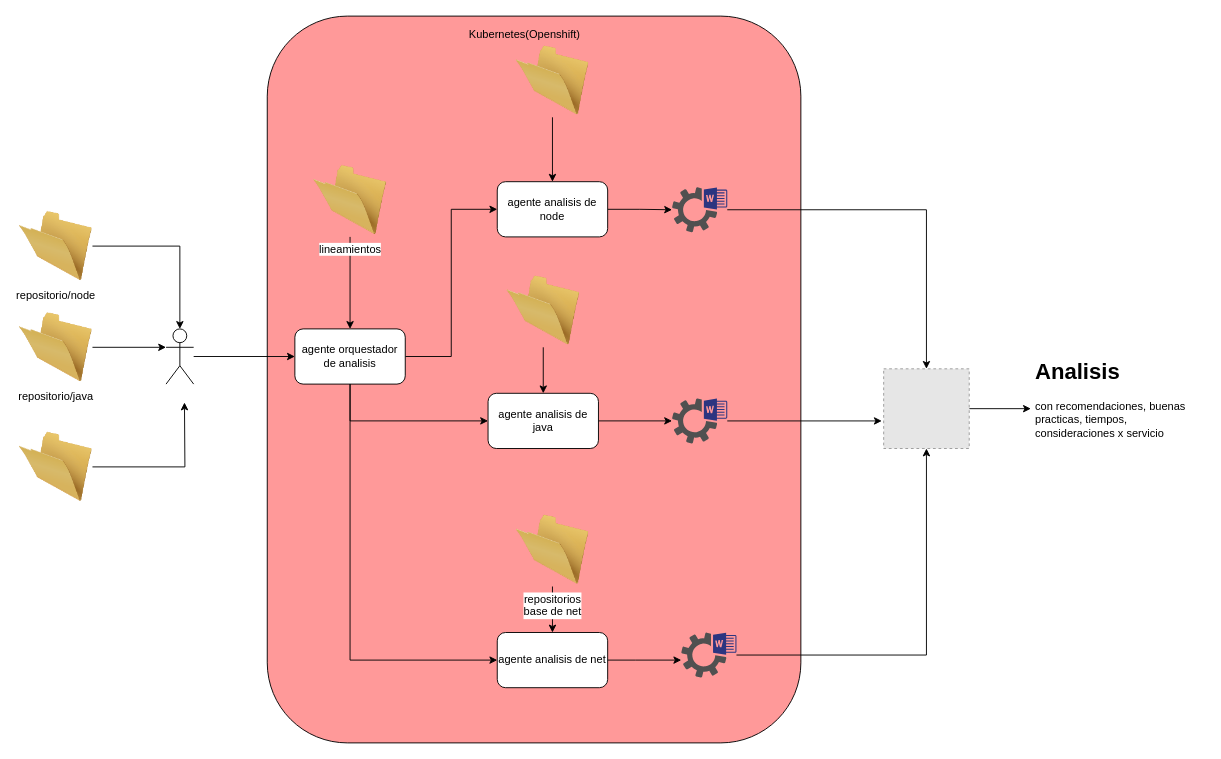
The diagram is 1221 pixels wide and 759 high, and some of its shapes have lost their labels. Grey dashed boxes stand in for pictures. Each missing label, with the centre of its shape:
repositorio/net: (x=55, y=466)
repositorios base de java: (x=543, y=310)
repositorios base de node: (x=552, y=80)
User: (x=179, y=356)
